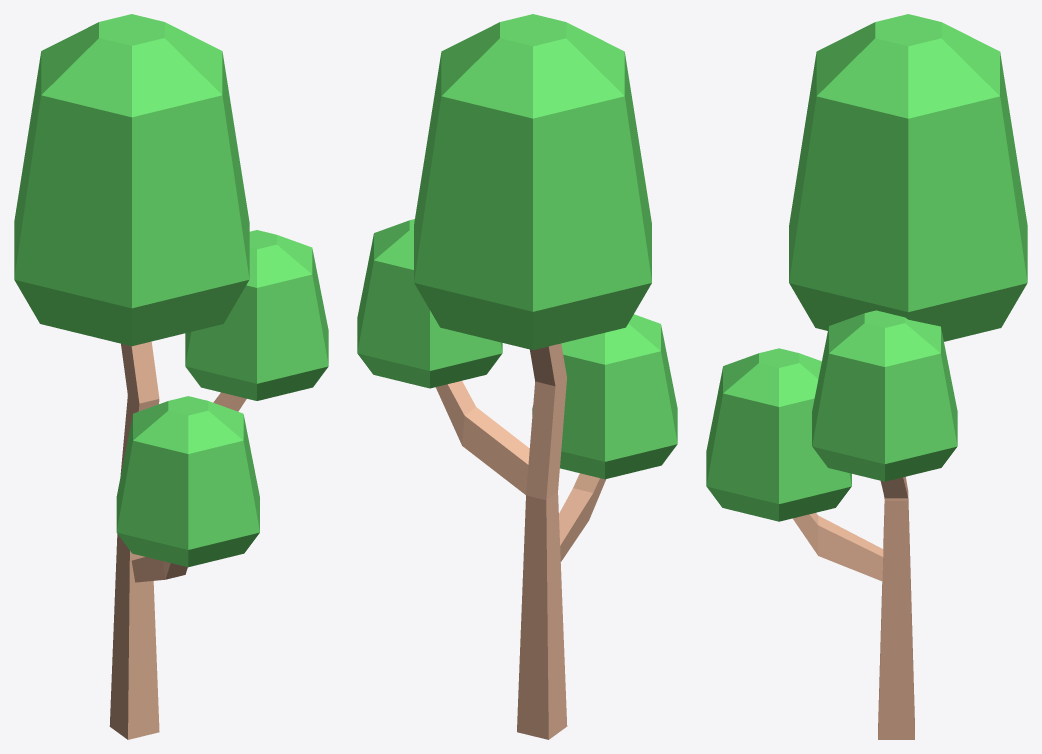
The model's file is n_tree_thin.glb.
The picture shows the model from 3 angles, left to right: view 1: azimuth 30°, elevation 25°; view 2: azimuth 150°, elevation 25°; view 3: azimuth 270°, elevation 25°; orthographic projection.
Visible parts, largest first — view 1: tree_thin; view 2: tree_thin; view 3: tree_thin.
Boxes of the visible parts, x1,y1,x2,y2 form: tree_thin: [14, 14, 328, 739]; tree_thin: [357, 14, 677, 739]; tree_thin: [706, 14, 1027, 739].
Bounding box in the file's own units: 3.2 × 7 × 2.9.
